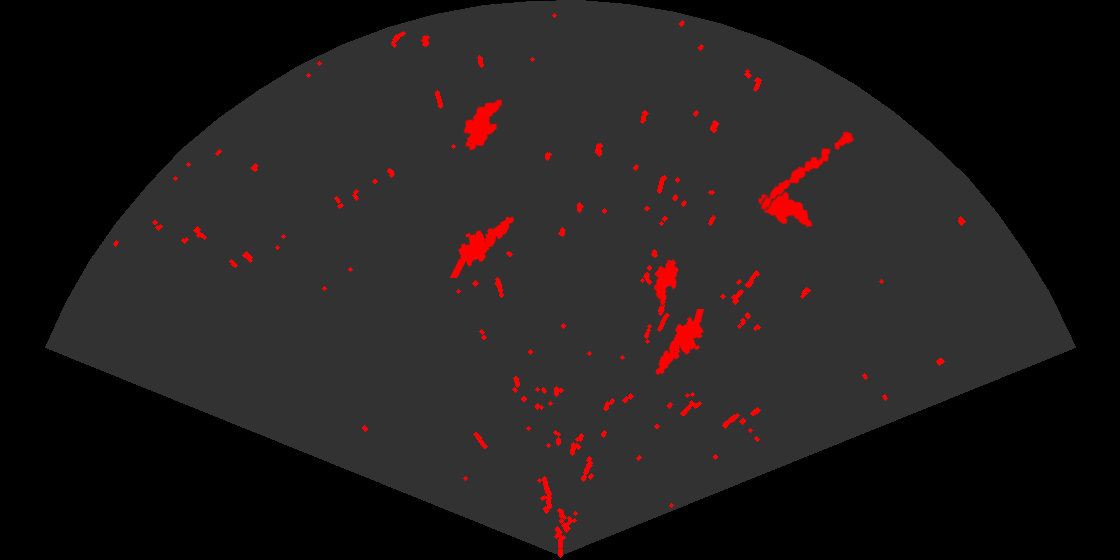AUV: (756, 189, 814, 229), (462, 97, 504, 152), (652, 258, 680, 307)
chain: (759, 130, 856, 212)
frogman: (448, 215, 516, 278), (654, 309, 706, 377)
